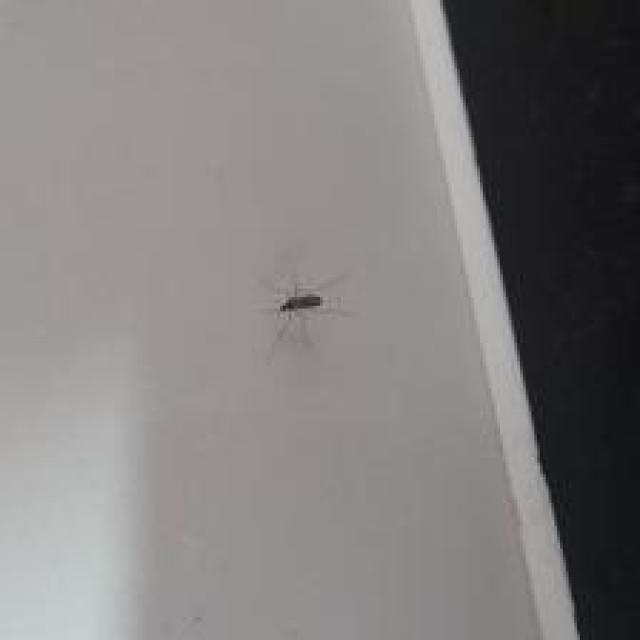Culex: (257, 267, 349, 364)
